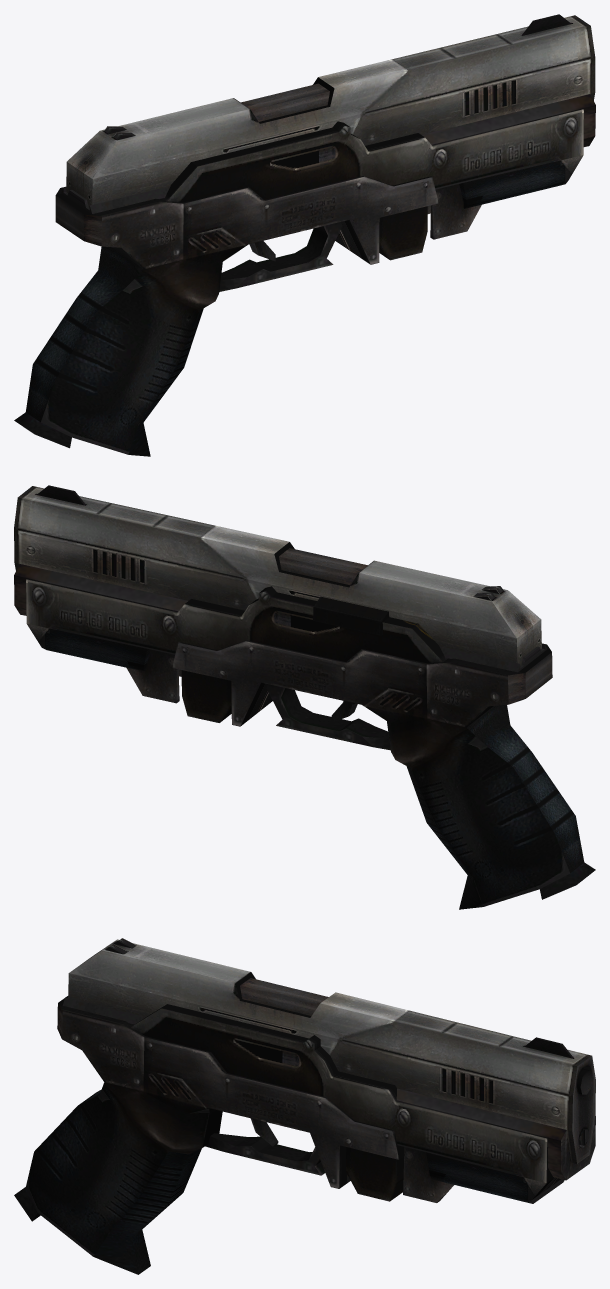
The model's file is Gun.fbx.
The picture shows the model from 3 angles, top to bottom: view 1: azimuth 30°, elevation 25°; view 2: azimuth 150°, elevation 25°; view 3: azimuth 330°, elevation 25°; orthographic projection. The views are drawn at different scales.
Visible parts, largest first — view 1: DrawCall_0050; view 2: DrawCall_0050; view 3: DrawCall_0050.
Part boxes in pixels (x1,y1,x2,y2): DrawCall_0050: (14,14,595,456); DrawCall_0050: (14,485,595,909); DrawCall_0050: (14,938,595,1274).
Bounding box in the file's own units: 55.69 × 30.93 × 7.76.
Materials: 1 (1 with a texture image).
